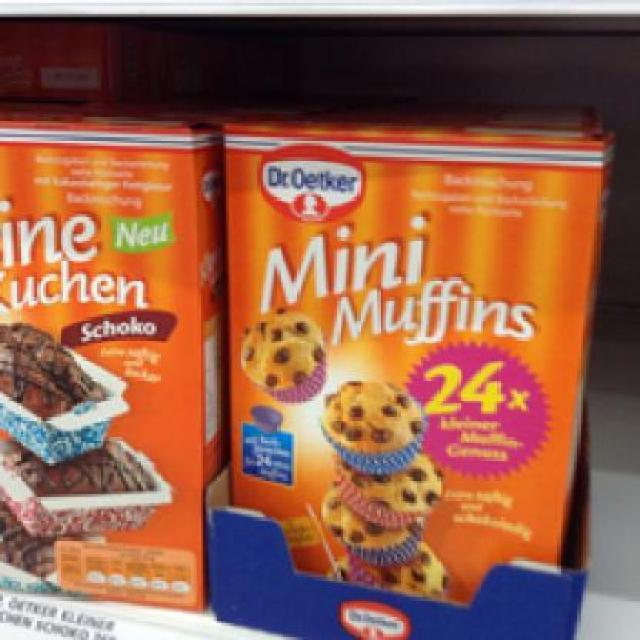Cake: (222, 112, 615, 618), (0, 110, 220, 606)
